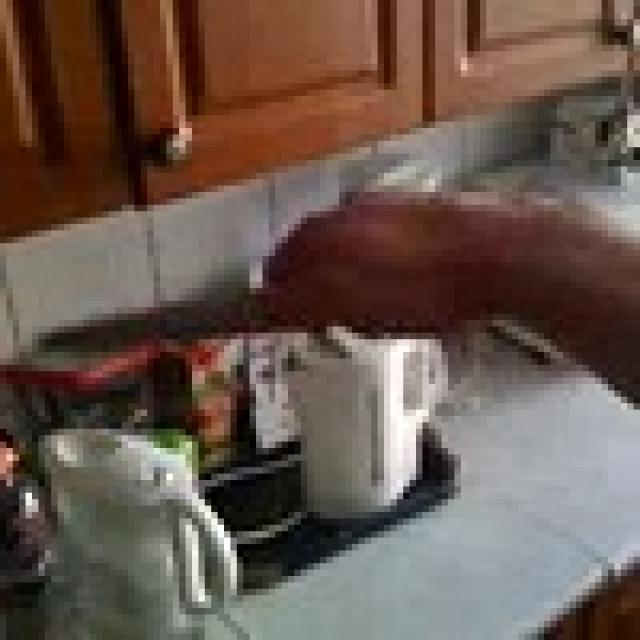Knife: (39, 262, 378, 365)
